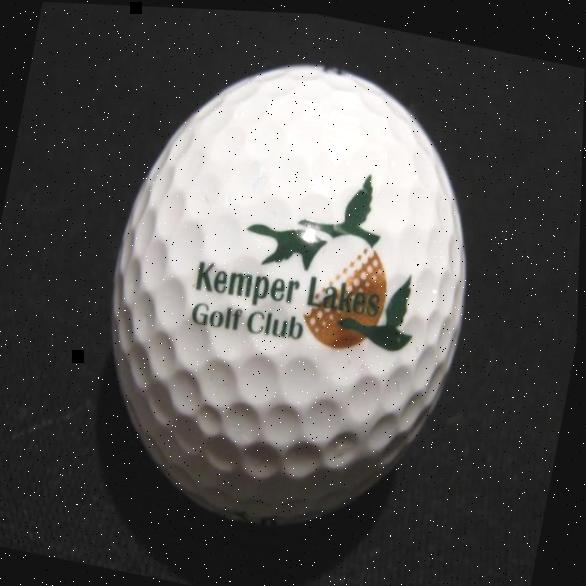GolfBall: (57, 18, 534, 572)
